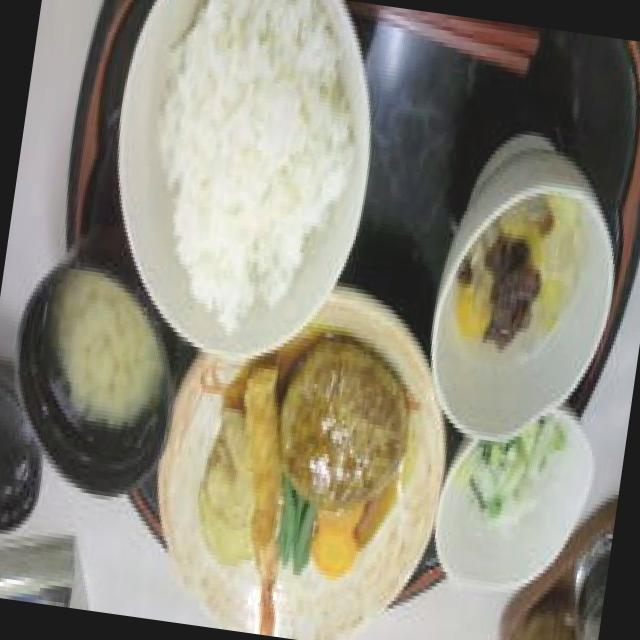Rice: (131, 0, 372, 343)
